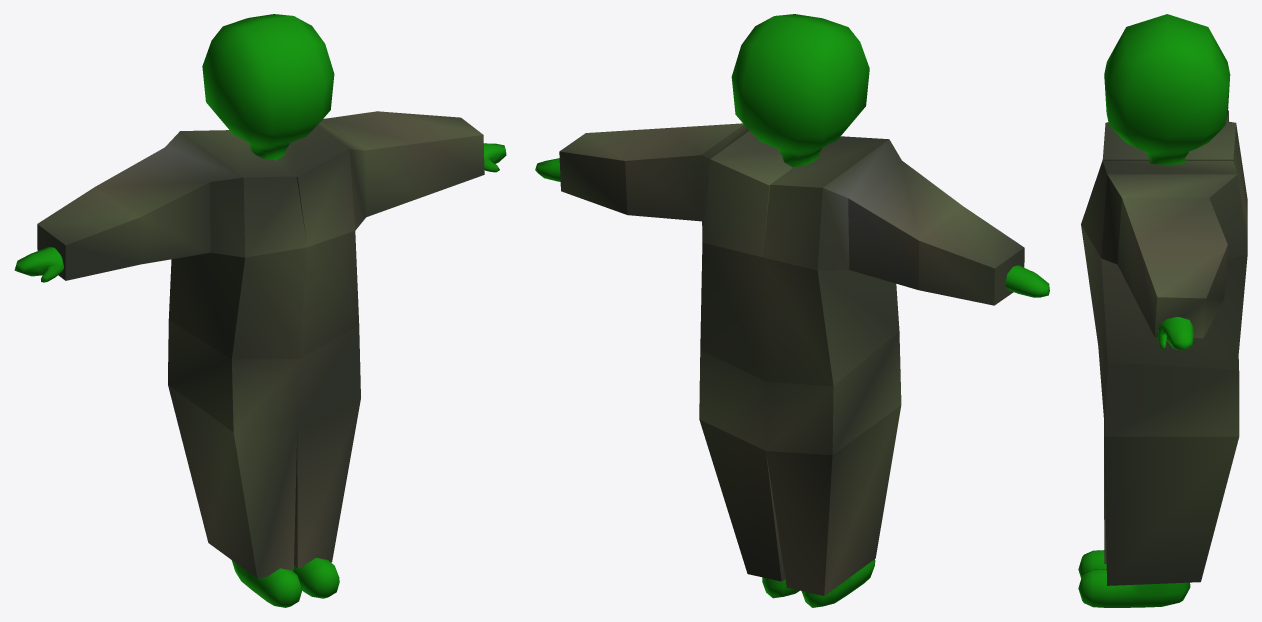
Rendered from asker3.fbx.
3 renders of one model, left to right at view 1: azimuth 30°, elevation 25°; view 2: azimuth 150°, elevation 25°; view 3: azimuth 270°, elevation 25°, orthographic. The views are drawn at different scales.
Parts seen in each view (by area): view 1: Cube, character; view 2: Cube, character; view 3: Cube, character.
Part boxes in pixels (<box>): Cube: <box>37,111,484,578</box>; character: <box>14,14,506,607</box>; Cube: <box>559,123,1024,595</box>; character: <box>535,14,1049,607</box>; Cube: <box>1081,110,1247,585</box>; character: <box>1078,14,1230,607</box>.
Size of the model in its own units: 1057 by 1147 by 307.
